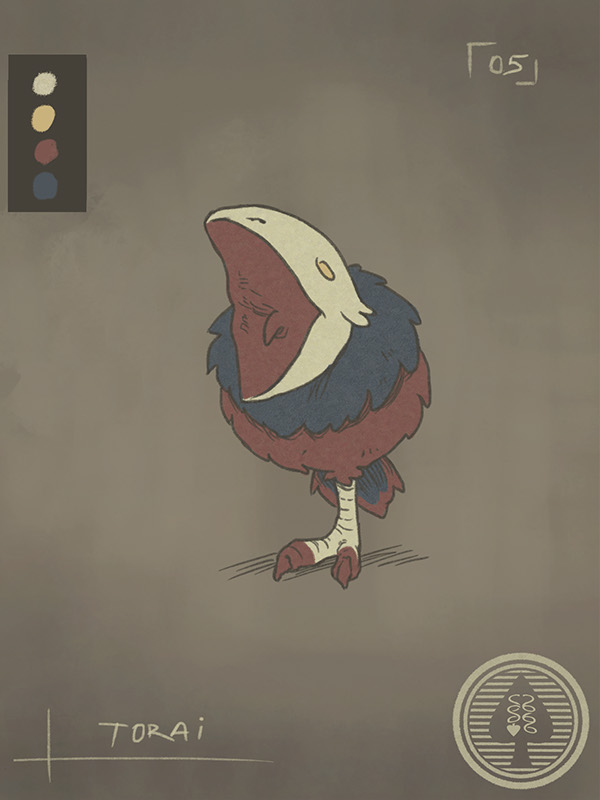bird: (169, 184, 434, 593)
